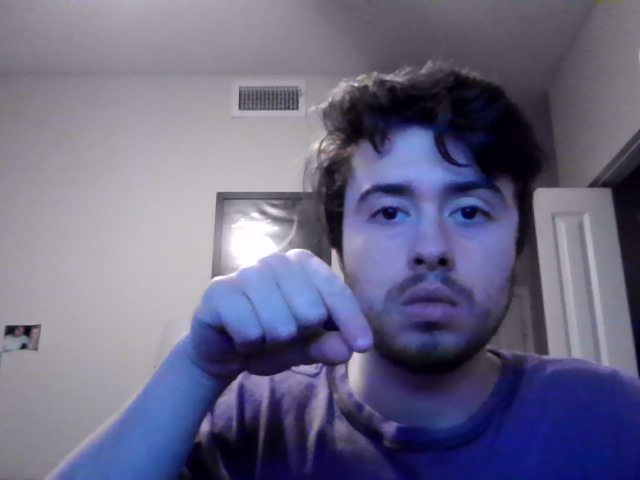q: (182, 247, 375, 395)
